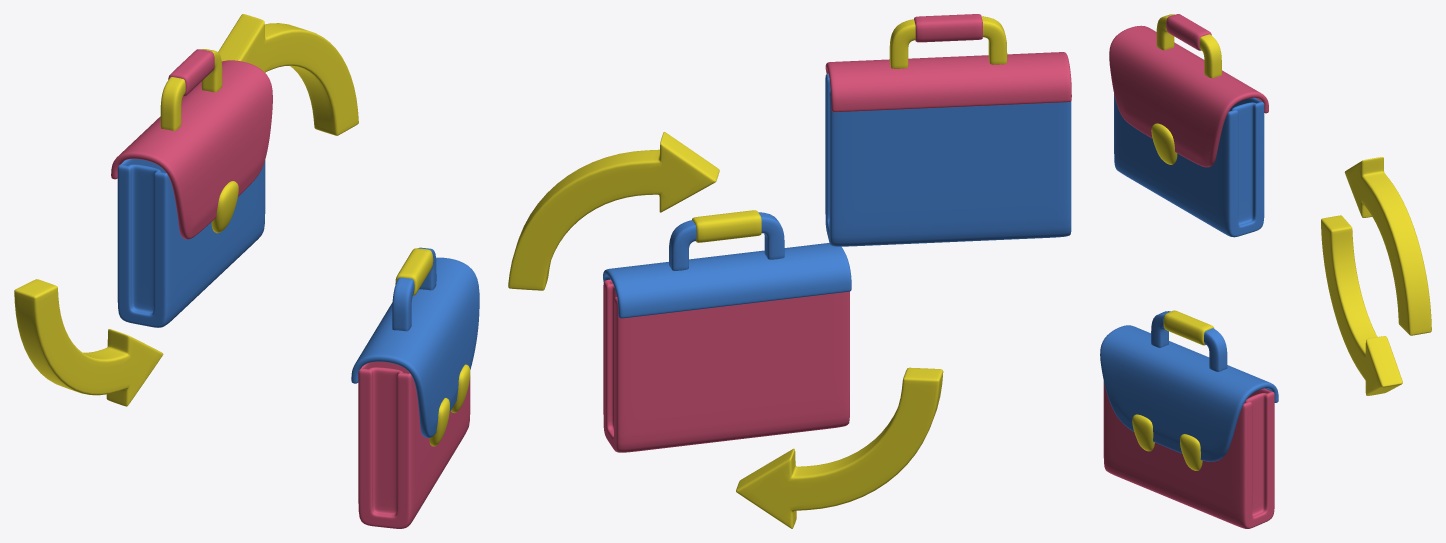
File: business-to-business-3d-animated-icon-811238713107.glb
3 renders of one model, left to right at view 1: azimuth 30°, elevation 25°; view 2: azimuth 150°, elevation 25°; view 3: azimuth 270°, elevation 25°, orthographic. The views are drawn at different scales.
Parts seen in each view (by area): view 1: Cube.155, Cube.159, Cylinder.059, Cylinder.058; view 2: Cube.155, Cube.159, Cylinder.058, Cylinder.059; view 3: Cube.159, Cube.155, Cylinder.058, Cylinder.059.
Boxes of the visible parts, bbox=[...] form: Cube.155: bbox=[111, 49, 272, 327]; Cube.159: bbox=[351, 247, 479, 528]; Cylinder.059: bbox=[14, 279, 163, 406]; Cylinder.058: bbox=[218, 14, 358, 135]; Cube.155: bbox=[825, 14, 1071, 246]; Cube.159: bbox=[603, 210, 851, 452]; Cylinder.058: bbox=[508, 132, 719, 290]; Cylinder.059: bbox=[736, 367, 943, 528]; Cube.159: bbox=[1100, 310, 1278, 528]; Cube.155: bbox=[1109, 14, 1268, 237]; Cylinder.058: bbox=[1344, 157, 1431, 335]; Cylinder.059: bbox=[1321, 215, 1402, 395].
Bounding box in the file's own units: 5.58 × 6.01 × 4.7.
